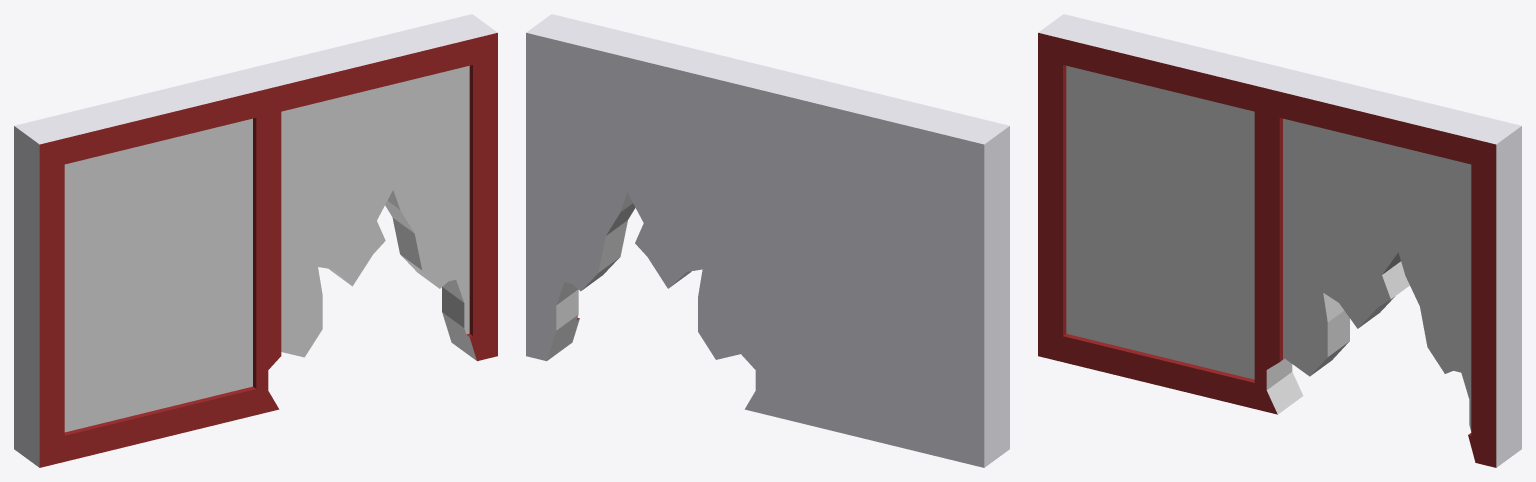
Rendered from Asian_Prop_Building_Modular_Wall_w_Upright_Damaged_01.FBX.
3 renders of one model, left to right at view 1: azimuth 30°, elevation 25°; view 2: azimuth 150°, elevation 25°; view 3: azimuth 330°, elevation 25°, orthographic.
Parts seen in each view (by area): view 1: Asian_Prop_Building_Modular_Wall_w_Upright_Damaged_01; view 2: Asian_Prop_Building_Modular_Wall_w_Upright_Damaged_01; view 3: Asian_Prop_Building_Modular_Wall_w_Upright_Damaged_01.
Boxes of the visible parts, left/top/right/bottom form: Asian_Prop_Building_Modular_Wall_w_Upright_Damaged_01: left=14, top=14, right=497, bottom=467; Asian_Prop_Building_Modular_Wall_w_Upright_Damaged_01: left=526, top=14, right=1009, bottom=467; Asian_Prop_Building_Modular_Wall_w_Upright_Damaged_01: left=1038, top=14, right=1521, bottom=467.
Bounding box in the file's own units: 5167 × 3485 × 500.
